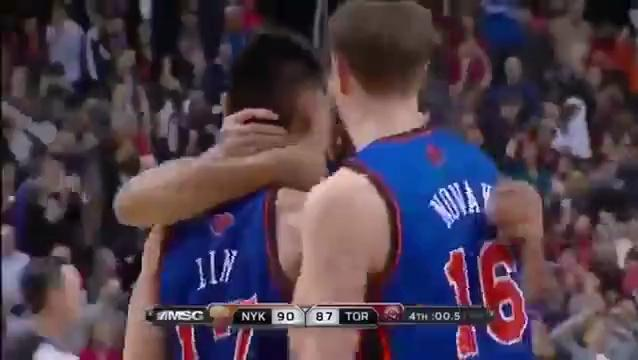Person: (306, 0, 536, 360), (126, 30, 329, 360)
